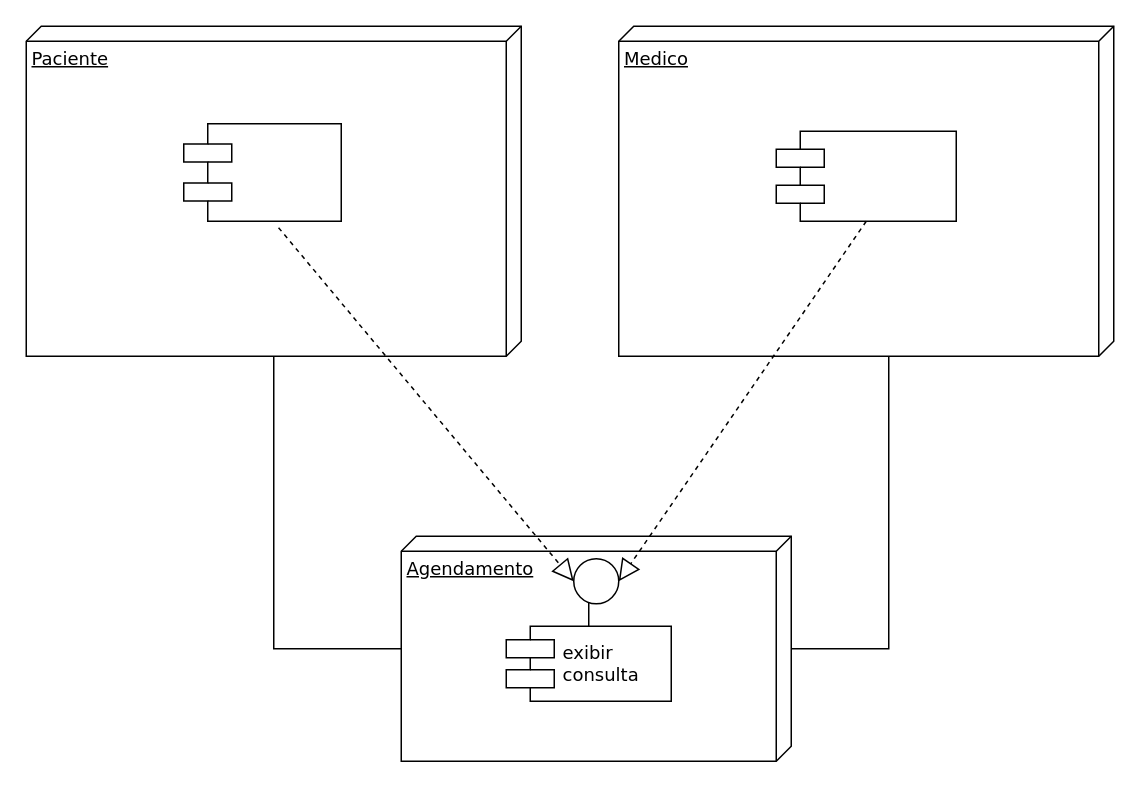
Some shapes in this 1140 by 788 pixel diagram are drawn without their labels. The centre of each missing label's shape, as x and y in pixels:
"consultar agendamento" belongs at (x=865, y=175).
"enviar formulario" belongs at (x=261, y=171).
